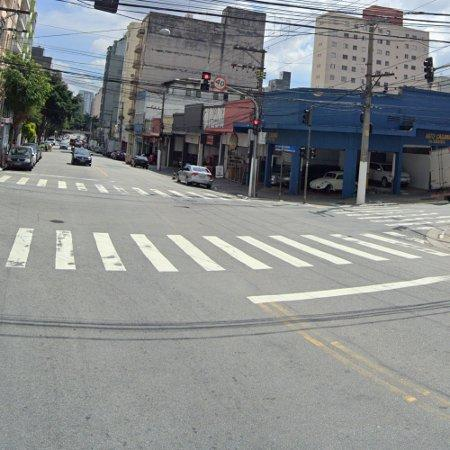crosswalks: (6, 226, 450, 274)
